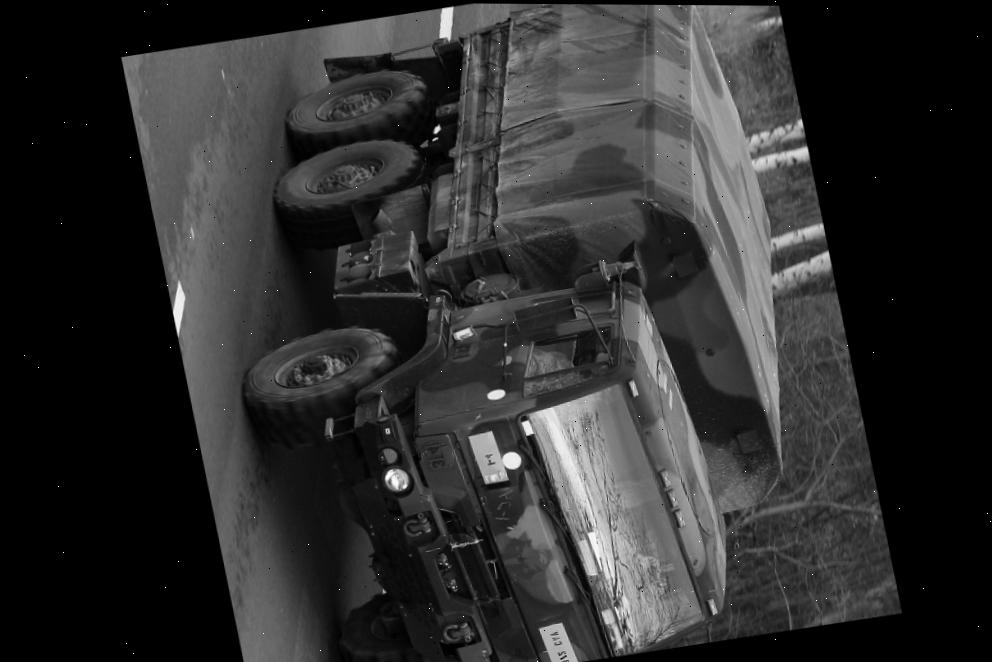tank: (181, 1, 864, 662)
